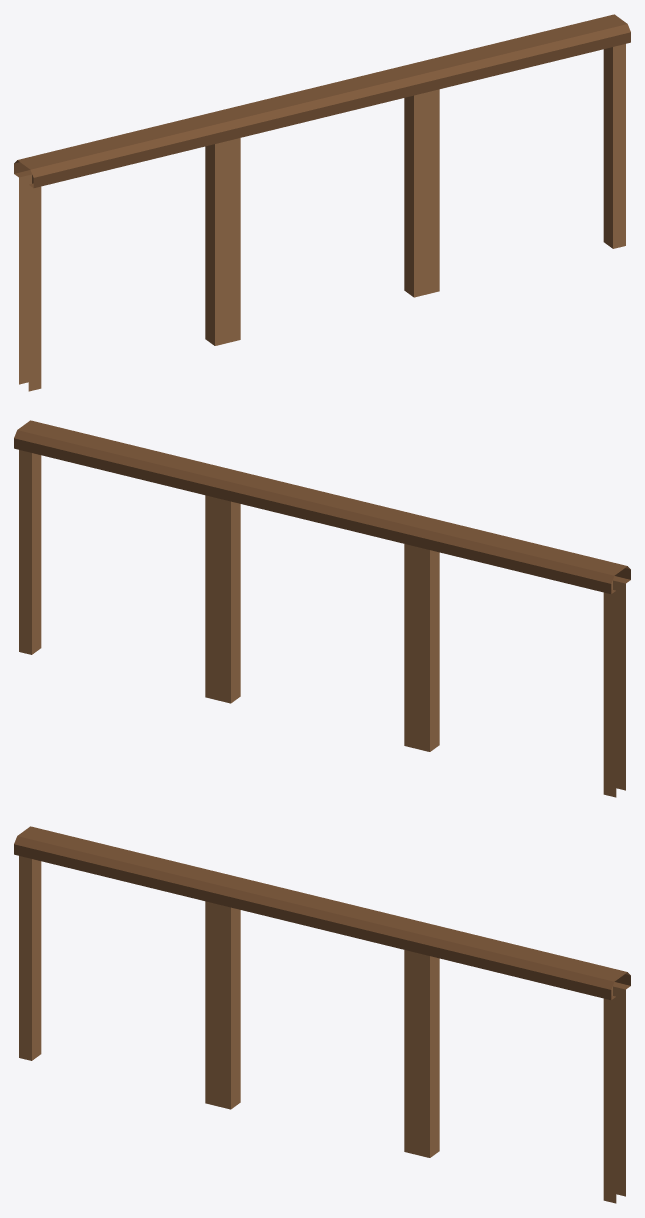
Rendered from M_Fence02_1.fbx.
The picture shows the model from 3 angles, top to bottom: view 1: azimuth 30°, elevation 25°; view 2: azimuth 150°, elevation 25°; view 3: azimuth 330°, elevation 25°; orthographic projection.
Parts seen in each view (by area): view 1: M_Fence02_1; view 2: M_Fence02_1; view 3: M_Fence02_1.
Boxes of the visible parts, x1,y1,x2,y2 form: M_Fence02_1: (14,14,630,391); M_Fence02_1: (14,420,630,797); M_Fence02_1: (14,826,630,1203).
Size of what is drawn, in the model's own units: 350 by 20 by 125.
